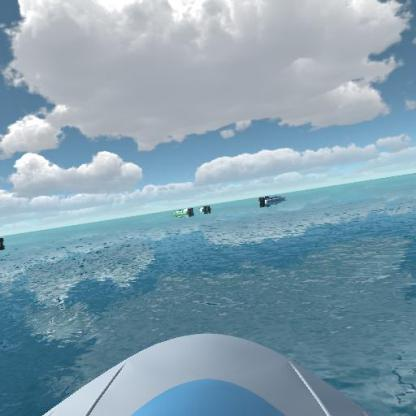usv0: (170, 205, 198, 220), (197, 199, 217, 216)
usv1: (256, 192, 290, 209)
